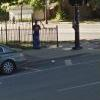Car: (2, 38, 29, 79)
